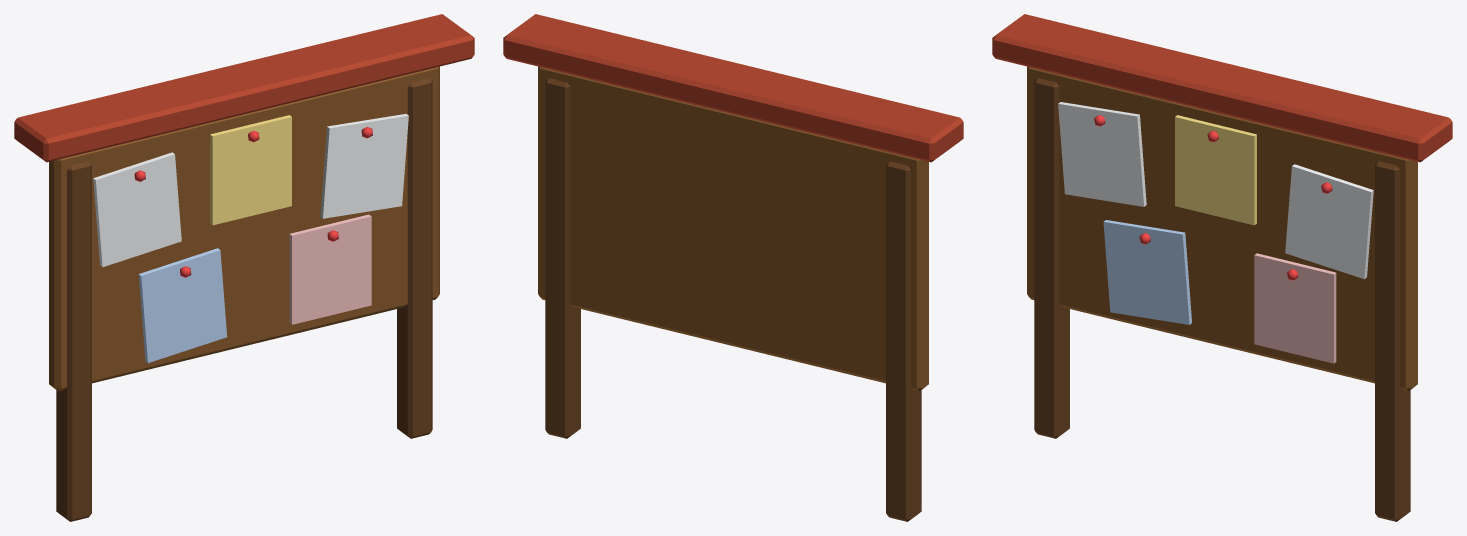
The model's file is board.glb.
3 renders of one model, left to right at view 1: azimuth 30°, elevation 25°; view 2: azimuth 150°, elevation 25°; view 3: azimuth 330°, elevation 25°, orthographic.
Visible parts, largest first — view 1: g_m_8a5a2b, g_m_b4432b, g_m_6b4423, g_m_f8fafc, g_m_fecaca, g_m_bfdbfe, g_m_fde68a, g_m_ef4444; view 2: g_m_8a5a2b, g_m_b4432b, g_m_6b4423; view 3: g_m_8a5a2b, g_m_b4432b, g_m_6b4423, g_m_f8fafc, g_m_fecaca, g_m_bfdbfe, g_m_fde68a, g_m_ef4444.
Boxes of the visible parts, x1,y1,x2,y2 form: g_m_8a5a2b: (49,66,439,391); g_m_b4432b: (14,14,474,162); g_m_6b4423: (56,78,432,521); g_m_f8fafc: (93,114,408,267); g_m_fecaca: (289,214,371,324); g_m_bfdbfe: (138,248,227,362); g_m_fde68a: (210,115,291,225); g_m_ef4444: (134,126,372,277); g_m_8a5a2b: (538,66,928,391); g_m_b4432b: (503,14,963,162); g_m_6b4423: (545,78,921,521); g_m_8a5a2b: (1027,66,1417,391); g_m_b4432b: (992,14,1452,162); g_m_6b4423: (1034,78,1410,521); g_m_f8fafc: (1058,102,1373,279); g_m_fecaca: (1254,253,1336,363); g_m_bfdbfe: (1103,220,1191,324); g_m_fde68a: (1175,115,1256,225); g_m_ef4444: (1094,115,1332,280).
Bounding box in the file's own units: 3.8 × 3.35 × 0.5.
